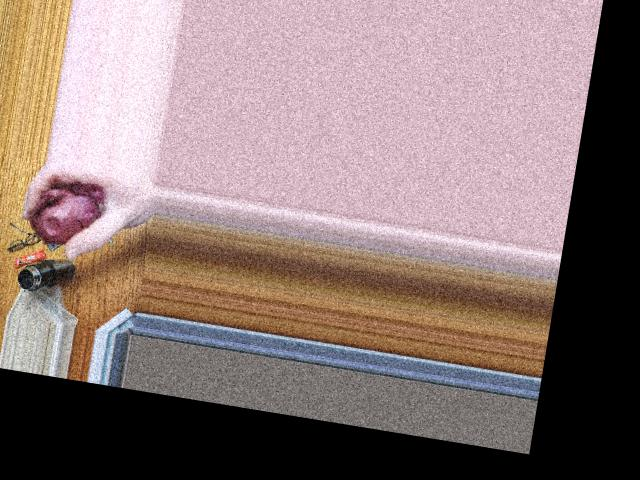onion: (19, 176, 110, 243)
